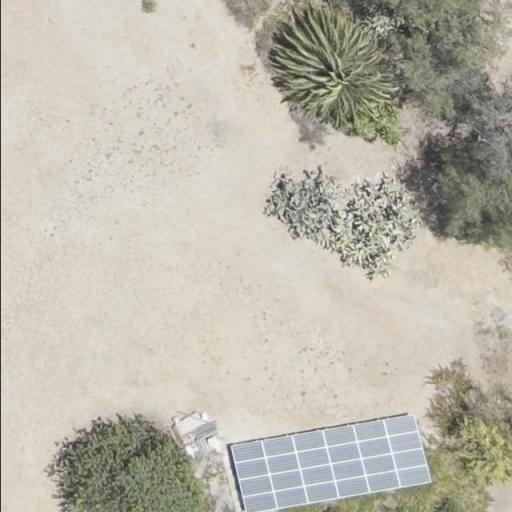solar-panel: (228, 414, 432, 512)
